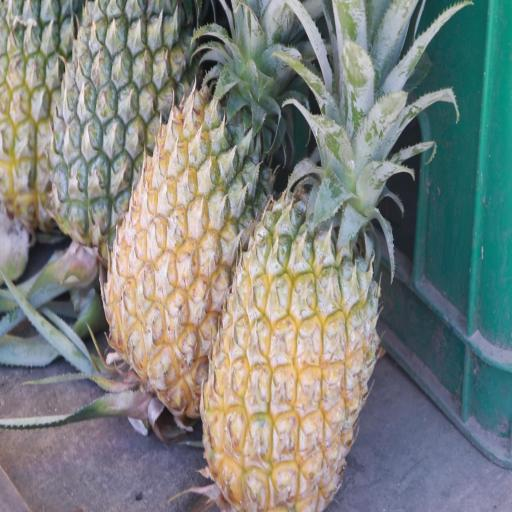Pineapple - v8 v1: (200, 105, 381, 512), (100, 27, 280, 424)
